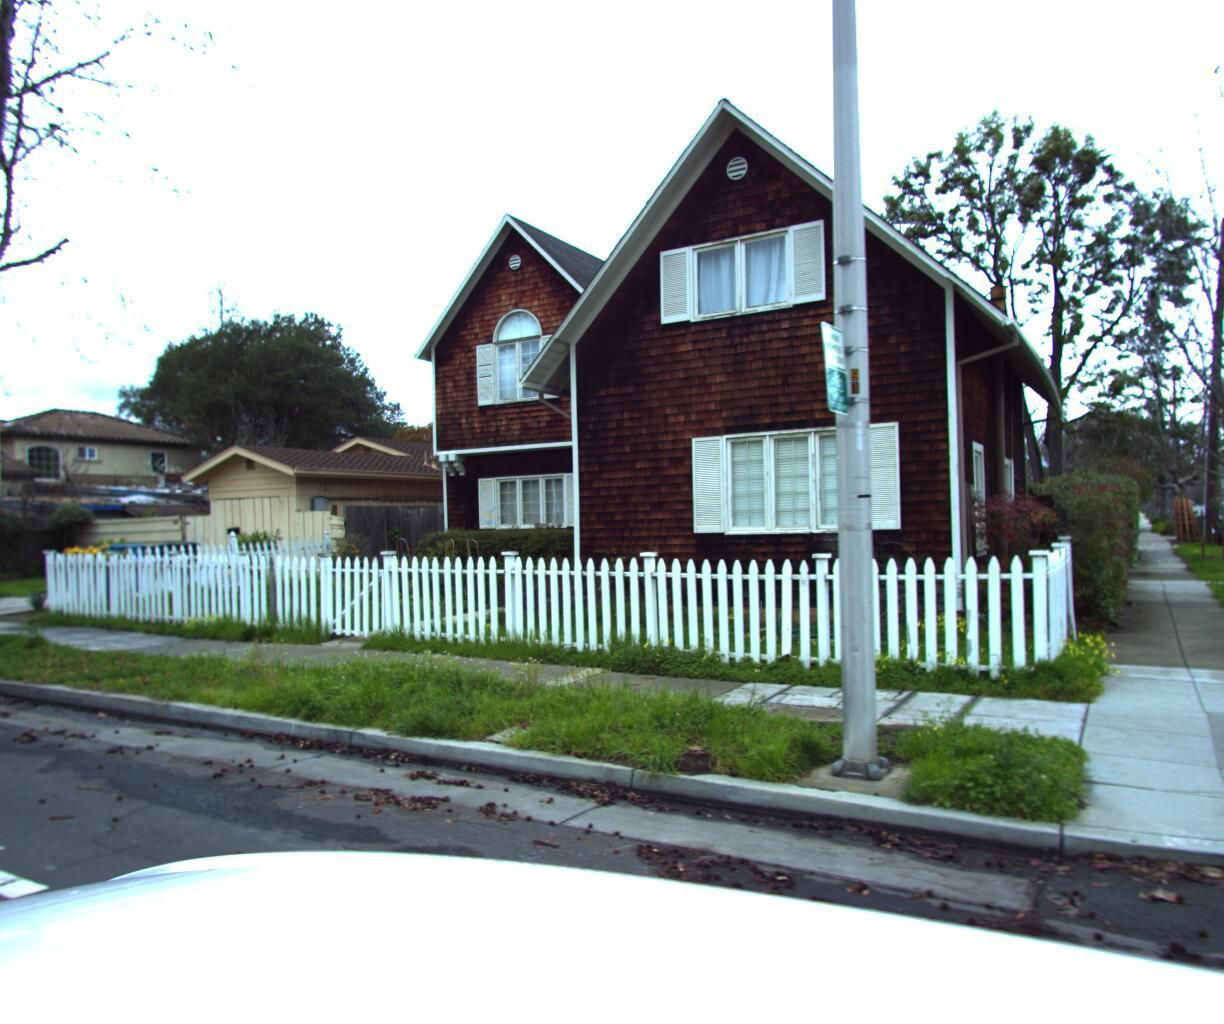car: (1198, 497, 1224, 555)
